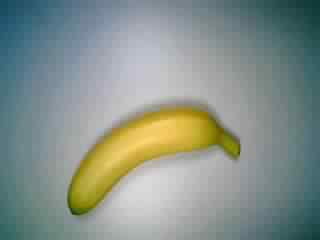banana: (62, 102, 251, 218)
